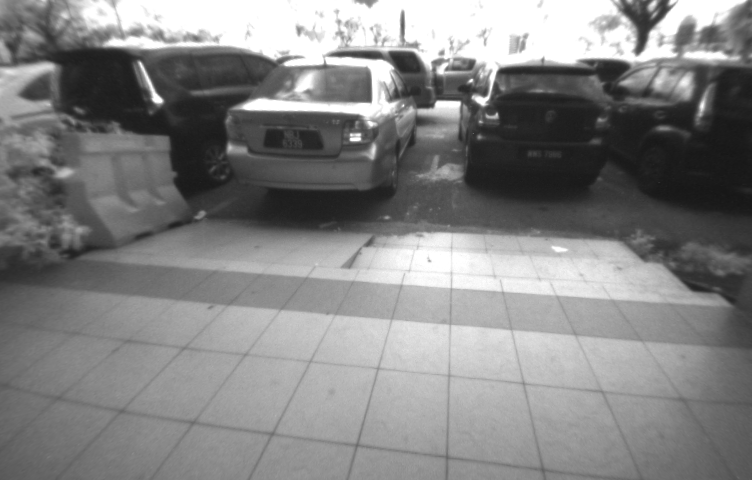down_steps: (335, 225, 747, 326)
mixed_gradient: (308, 225, 399, 295)
